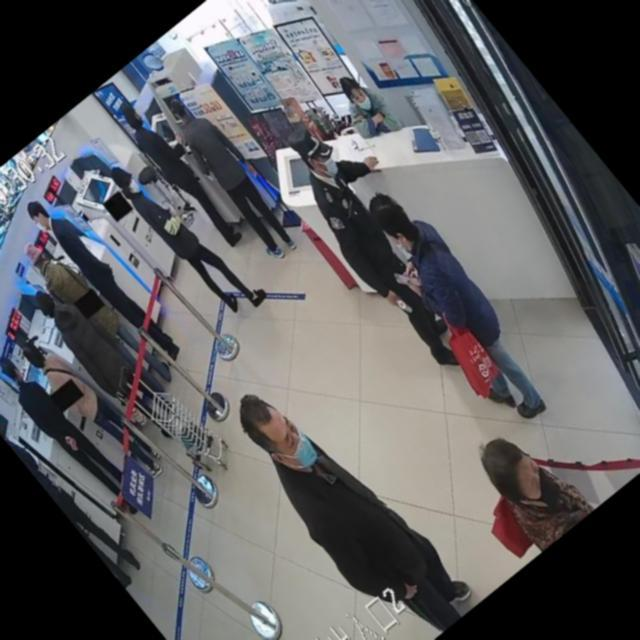person: (213, 359, 481, 640), (265, 104, 510, 377), (339, 177, 568, 437), (22, 184, 185, 374), (17, 222, 179, 407), (27, 270, 186, 452), (108, 150, 264, 328), (156, 89, 312, 266), (0, 342, 147, 526), (0, 405, 146, 587), (17, 320, 168, 494), (0, 414, 142, 583), (444, 414, 593, 568), (114, 94, 256, 255), (114, 94, 255, 256), (324, 64, 405, 149)
